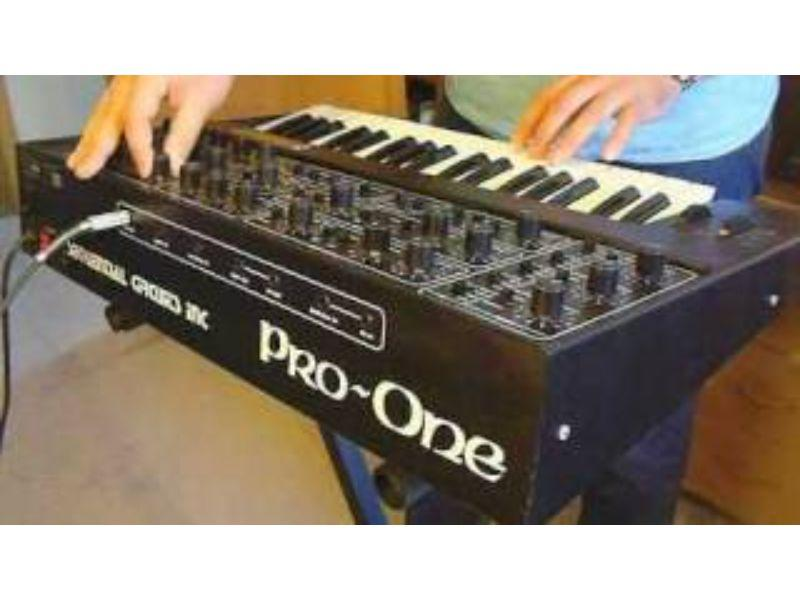synthesizer: (13, 109, 788, 498)
